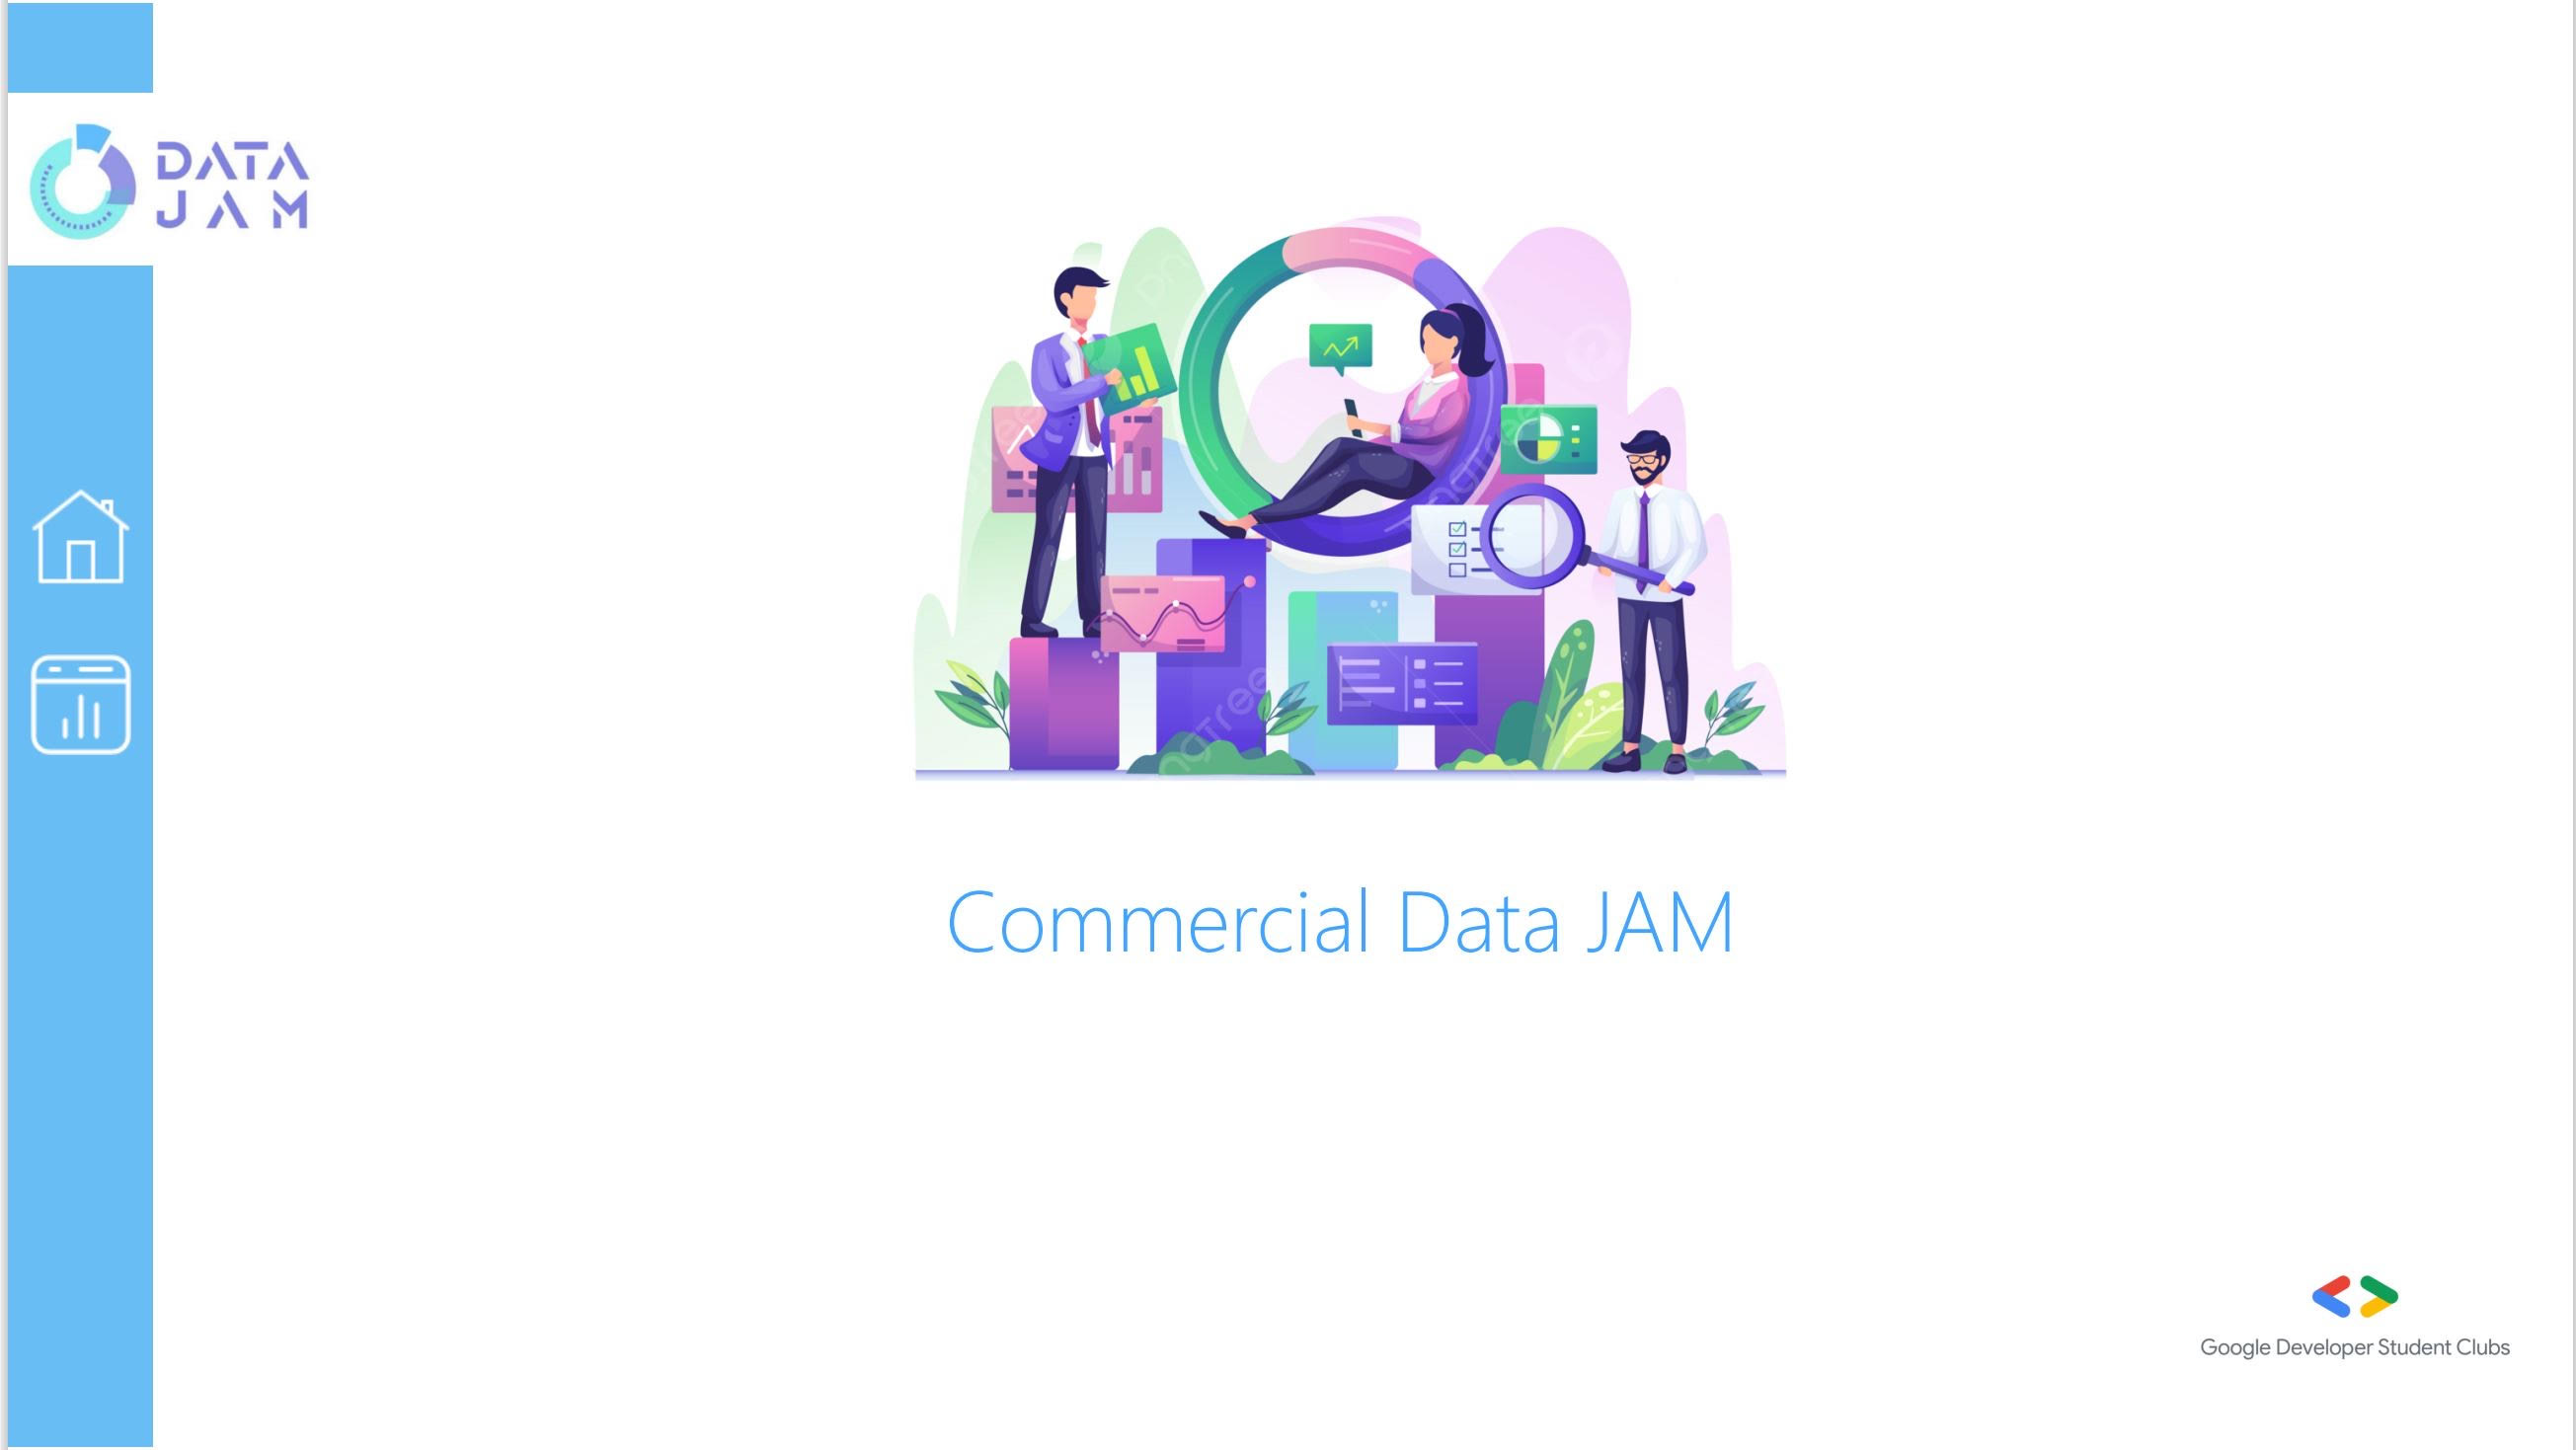

The dashboard page shown, as its layout file describes it:
{"tool":"powerbi","page":{"name":"Home","canvas":[1280,720],"ordinal":0},"visuals":[{"type":"shape","box":[0,0,72.7,720.4],"z":0},{"type":"image","box":[1066.2,591.4,214.1,129],"z":1000},{"type":"image","box":[0,45.3,164.7,86.4],"z":2000},{"type":"textbox","box":[443.2,404.8,444.6,116.6],"z":3000},{"type":"image","box":[360.9,43.9,609.3,410.3],"z":4000},{"type":"image","box":[0,237.4,74.1,60.4],"z":7000},{"type":"image","box":[0,319.7,72.7,60.4],"z":7500},{"type":"actionButton","box":[4.4,320,63.3,60],"z":8000},{"type":"actionButton","box":[6.7,237.5,60.5,62.7],"z":9000}]}

Visuals, with their boxes on the page's 1280x720 design canvas (x1, y1, x2, y2). These are canvas units, not pixel positions in the 2576x1450 screenshot, which may show the page scaled, cropped or inside an application window:
shape: <region>0, 0, 73, 720</region>
image: <region>1066, 591, 1280, 720</region>
image: <region>0, 45, 165, 132</region>
textbox: <region>443, 405, 888, 521</region>
image: <region>361, 44, 970, 454</region>
image: <region>0, 237, 74, 298</region>
image: <region>0, 320, 73, 380</region>
actionButton: <region>4, 320, 68, 380</region>
actionButton: <region>7, 238, 67, 300</region>
